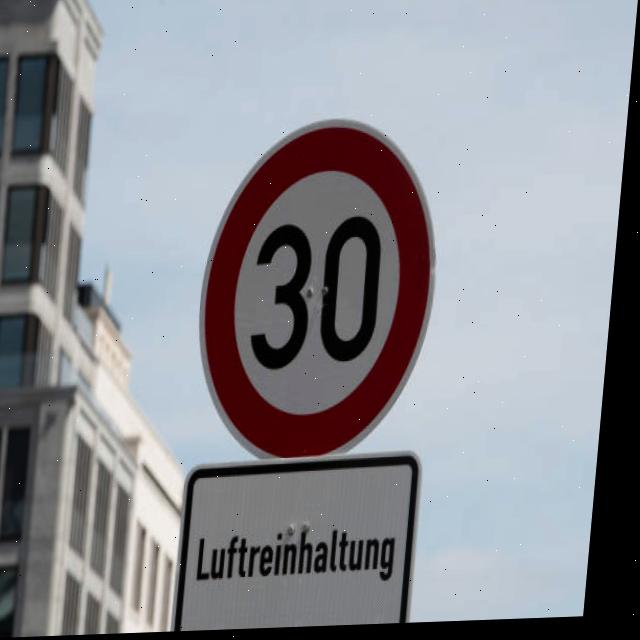Speed limit 30: (193, 115, 455, 466)
